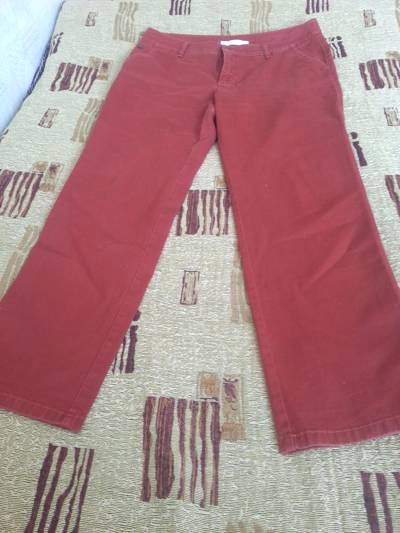Pants: (7, 25, 400, 468)
